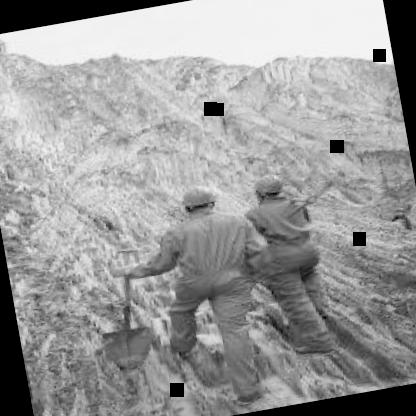helmet: (174, 180, 222, 218), (250, 169, 292, 206)
